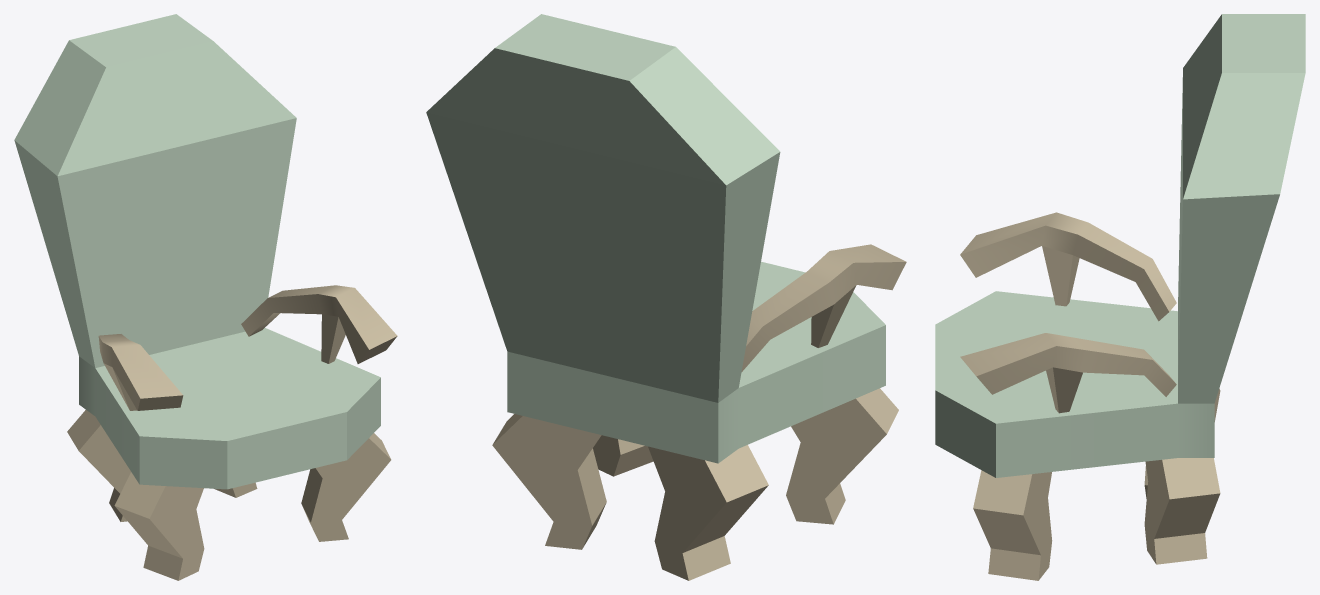
File: Chair.fbx
3 views of the same model, side by side, from view 1: azimuth 30°, elevation 25°; view 2: azimuth 150°, elevation 25°; view 3: azimuth 270°, elevation 25° (orthographic). The views are drawn at different scales.
Visible parts, largest first — view 1: polySurface5; view 2: polySurface5; view 3: polySurface5.
Boxes of the visible parts, box(x1,y1,x2,y2) form: polySurface5: box(14, 14, 397, 580); polySurface5: box(426, 14, 906, 580); polySurface5: box(935, 14, 1305, 580).
Size of the model in its own units: 4.31 by 6.62 by 4.59.
